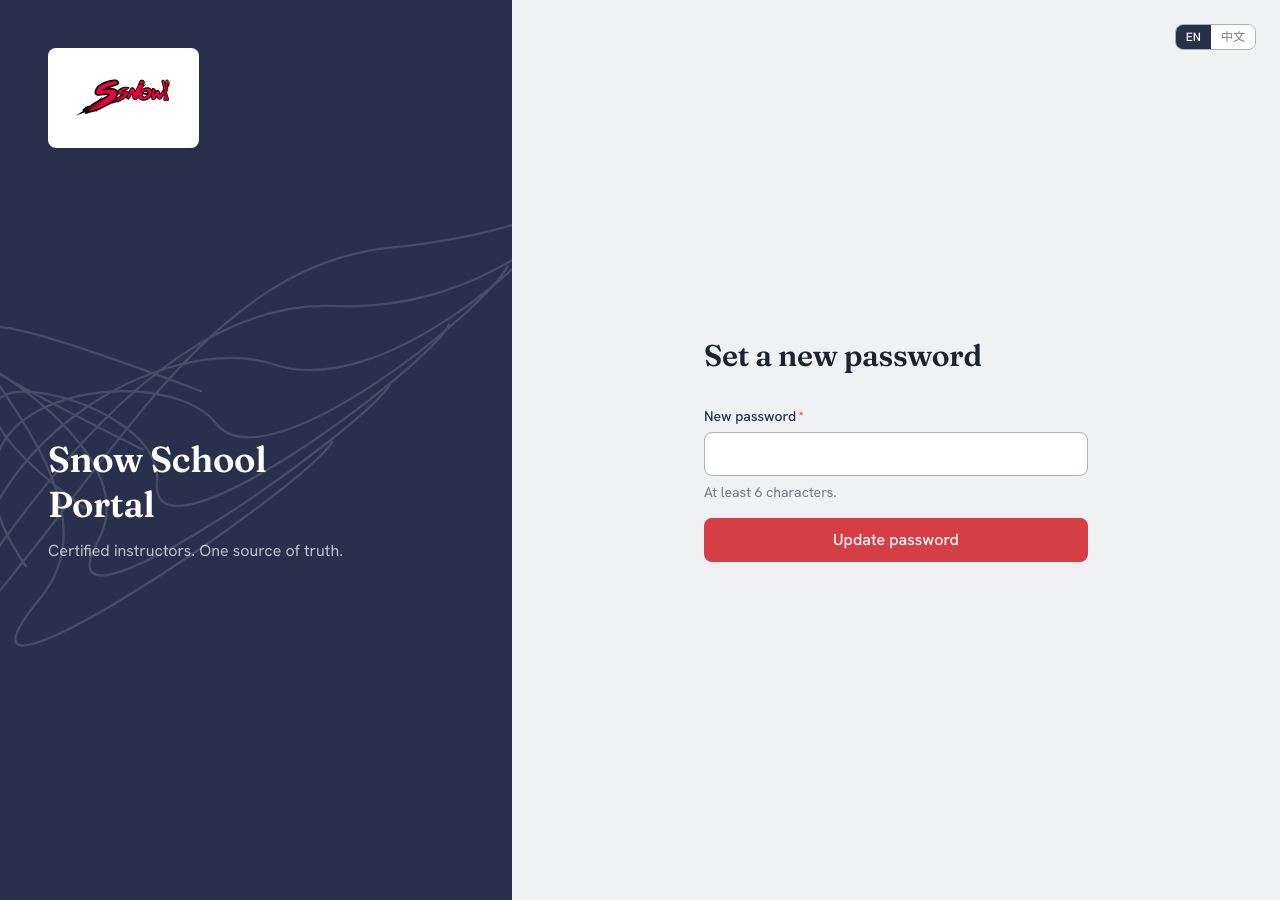
it: UpdatePasswordPage › shows an error when the update fails
Type "secret123" into the password field labelled "New password*". click: [896, 454]
box: x1=704 y1=432 x2=1088 y2=476
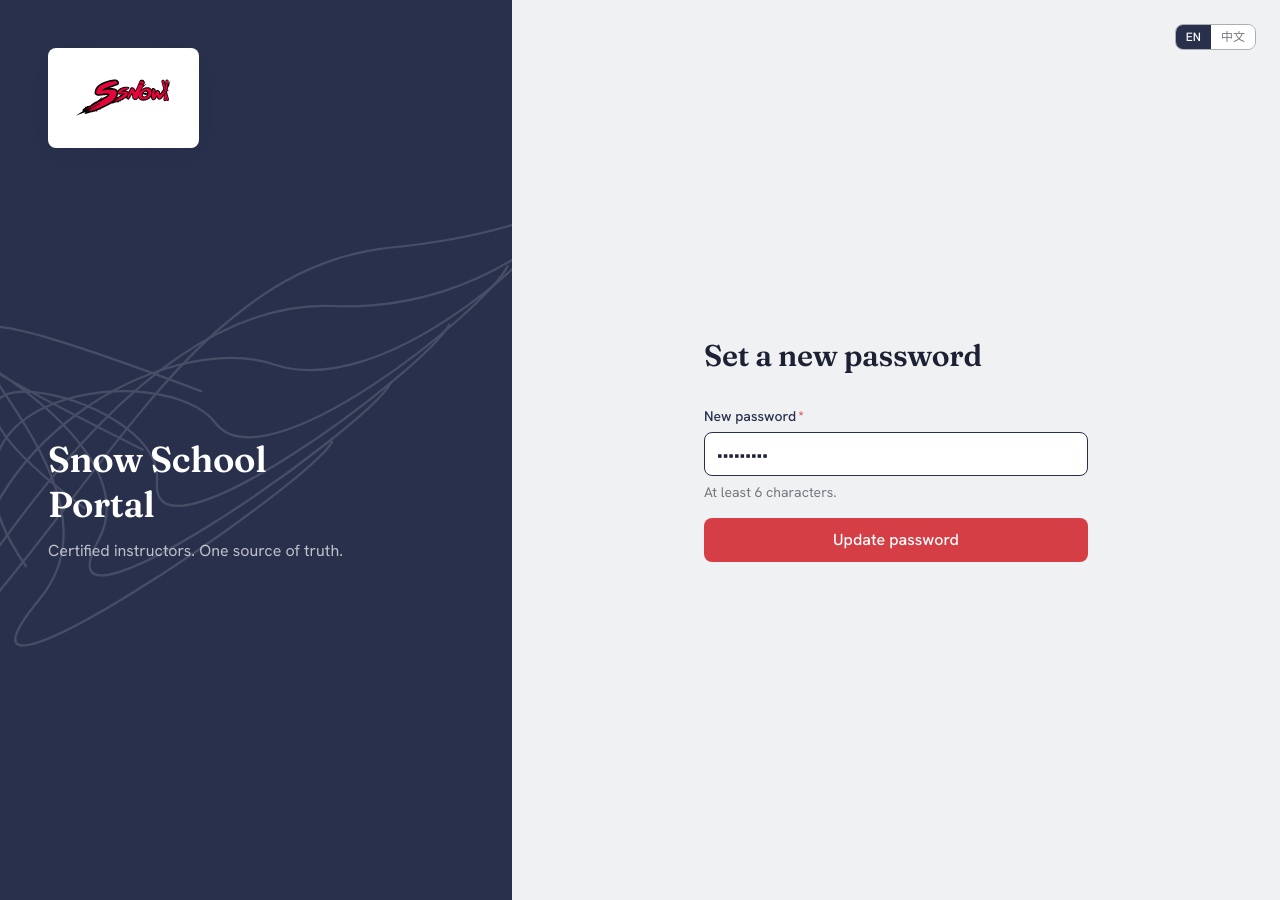
Click the button named "Update password". click: [896, 540]
box: x1=704 y1=518 x2=1088 y2=562
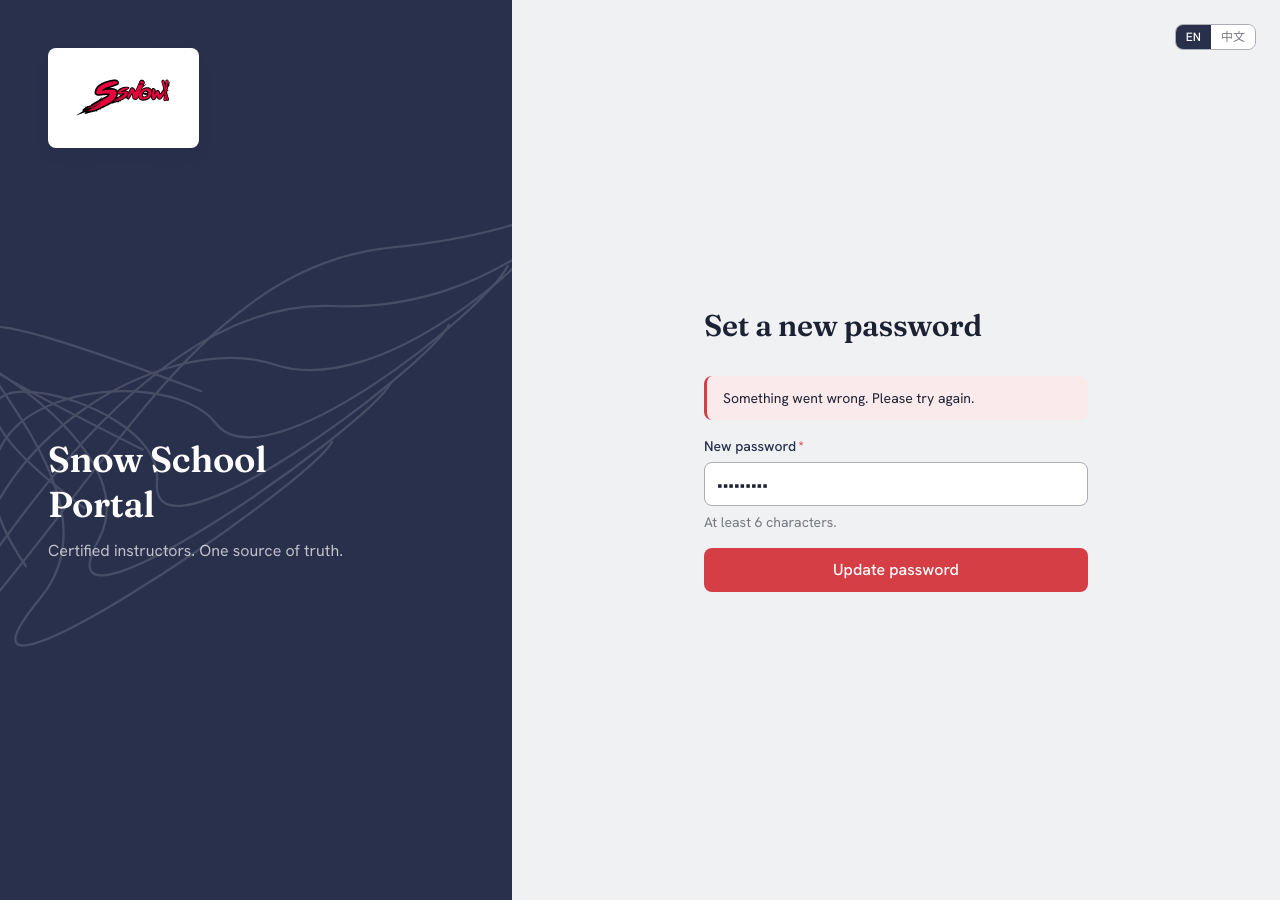
Check: the text "Something went wrong. Please try again." is shown, box x1=723 y1=389 x2=974 y2=407
